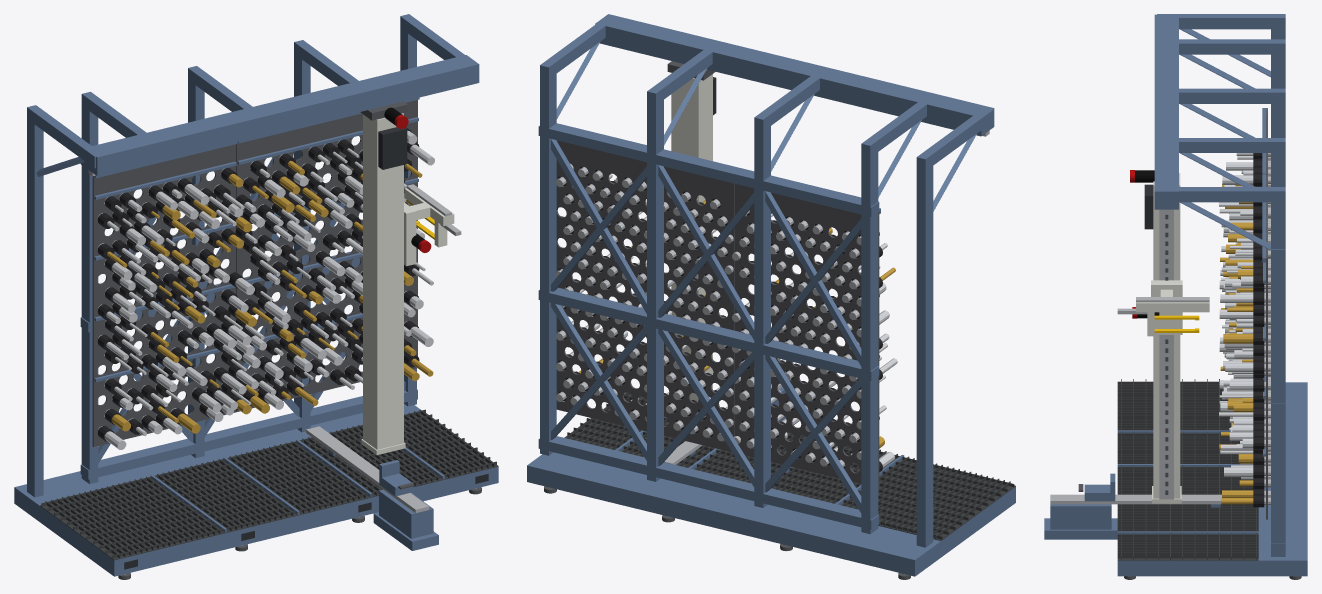
Rendered from tool_wall_magazine_2mod.glb.
The picture shows the model from 3 angles, left to right: view 1: azimuth 30°, elevation 25°; view 2: azimuth 150°, elevation 25°; view 3: azimuth 270°, elevation 25°; orthographic projection. The views are drawn at different scales.
Parts seen in each view (by area): view 1: twm_frame__fms_blue, twm_base__grating, twm_frame__anthracite_lt, twm_tools__holder, twm_tools__tool_bright, twm_base__fms_blue, mag_loader__struct_grey, twm_tools__tool_gold, twm_load_station__fms_blue, twm_load_station__steel, mag_loader_z__struct_grey, mag_loader__anthracite (+2 smaller); view 2: twm_frame__fms_blue, twm_frame__anthracite_lt, twm_base__fms_blue, twm_tools__steel, twm_base__grating, mag_loader__struct_grey, twm_tools__holder, twm_tools__tool_bright; view 3: twm_frame__fms_blue, twm_base__grating, twm_base__fms_blue, twm_tools__tool_bright, twm_tools__holder, mag_loader__struct_grey, mag_loader__steel, twm_tools__tool_gold, twm_load_station__fms_blue, mag_loader_z__struct_grey, twm_load_station__steel, twm_tools__steel (+6 smaller).
Boxes of the visible parts, box(x1,y1,x2,y2) form: twm_frame__fms_blue: box(27, 14, 479, 497); twm_base__grating: box(40, 409, 498, 560); twm_frame__anthracite_lt: box(92, 100, 417, 446); twm_tools__holder: box(97, 127, 419, 441); twm_tools__tool_bright: box(104, 130, 434, 449); twm_base__fms_blue: box(14, 404, 498, 576); mag_loader__struct_grey: box(361, 113, 405, 455); twm_tools__tool_gold: box(107, 160, 433, 433); twm_load_station__fms_blue: box(328, 449, 438, 550); twm_load_station__steel: box(306, 426, 428, 512); mag_loader_z__struct_grey: box(404, 188, 454, 266); mag_loader__anthracite: box(378, 127, 407, 169); twm_frame__fms_blue: box(538, 14, 994, 547); twm_frame__anthracite_lt: box(556, 140, 879, 487); twm_base__fms_blue: box(527, 416, 1015, 576); twm_tools__steel: box(556, 163, 861, 467); twm_base__grating: box(564, 392, 1015, 540); mag_loader__struct_grey: box(671, 73, 712, 401); twm_tools__holder: box(558, 166, 882, 472); twm_tools__tool_bright: box(569, 173, 897, 467); twm_frame__fms_blue: box(1154, 14, 1285, 556); twm_base__grating: box(1117, 379, 1258, 560); twm_base__fms_blue: box(1117, 382, 1307, 576); twm_tools__tool_bright: box(1219, 153, 1253, 479); twm_tools__holder: box(1253, 153, 1264, 507); mag_loader__struct_grey: box(1152, 173, 1181, 503); mag_loader__steel: box(1159, 209, 1173, 499); twm_tools__tool_gold: box(1219, 184, 1253, 504); twm_load_station__fms_blue: box(1044, 504, 1220, 539); mag_loader_z__struct_grey: box(1136, 280, 1209, 334); twm_load_station__steel: box(1050, 494, 1221, 504); twm_tools__steel: box(1264, 153, 1270, 504).
Bounding box in the file's own units: 3.44 × 3.54 × 2.15.
